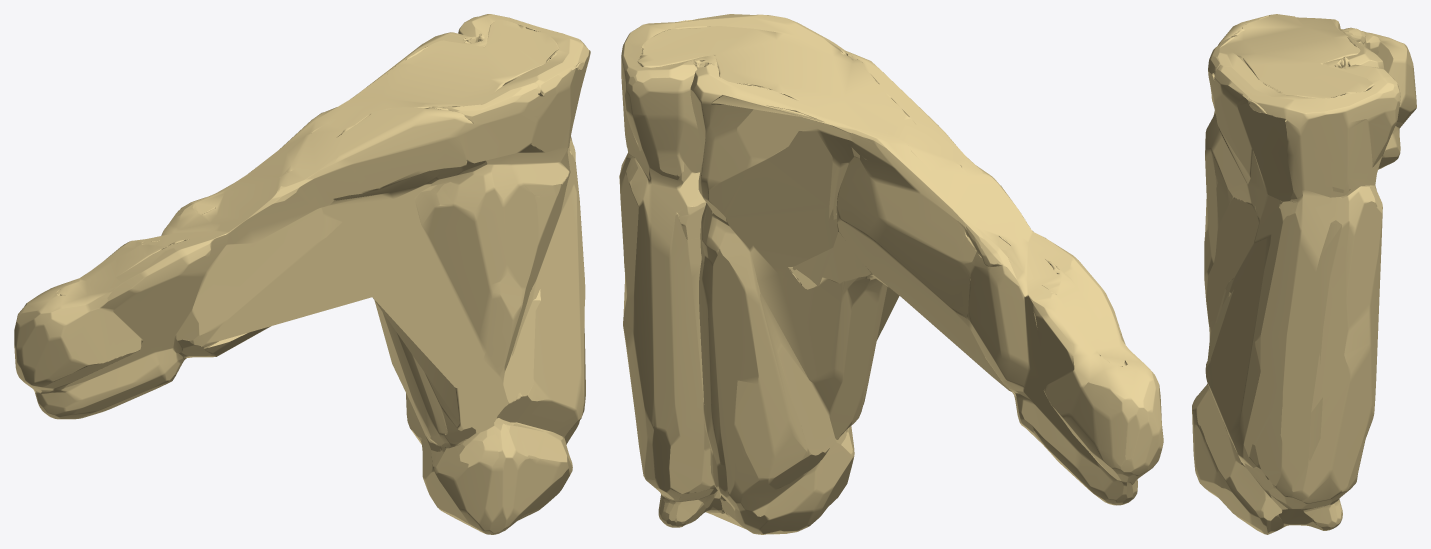
File: gap_PolyShape__17_LODs.fbx
3 renders of one model, left to right at view 1: azimuth 30°, elevation 25°; view 2: azimuth 150°, elevation 25°; view 3: azimuth 270°, elevation 25°, orthographic. The views are drawn at different scales.
Visible parts, largest first — view 1: PolyShape (17)_LOD0; view 2: PolyShape (17)_LOD0; view 3: PolyShape (17)_LOD0.
Part boxes in pixels (x1,y1,x2,y2): PolyShape (17)_LOD0: (14,14,590,534); PolyShape (17)_LOD0: (619,14,1163,534); PolyShape (17)_LOD0: (1192,14,1416,534).
Size of what is drawn, in the model's own units: 2381 by 1942 by 861.
